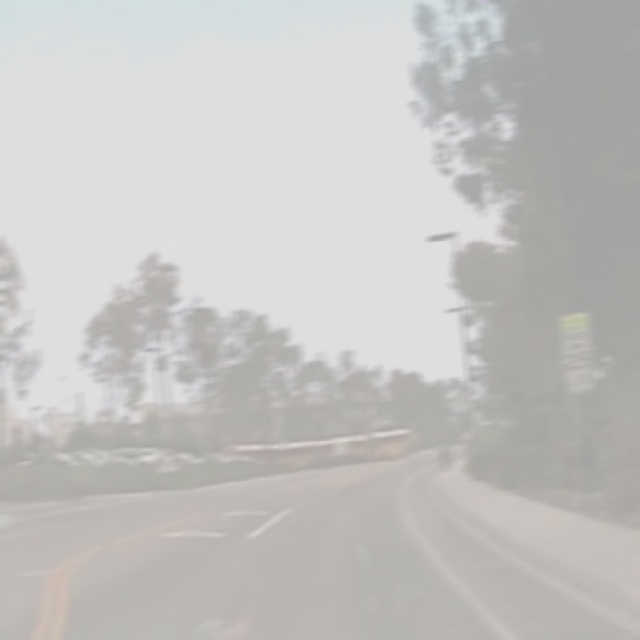schoolSpeedLimit25: (560, 314, 595, 394)
